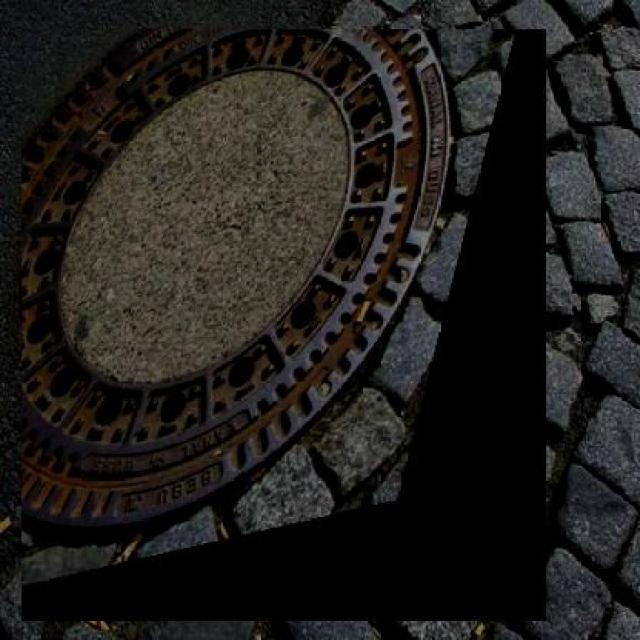Manhole: (21, 29, 546, 620)
